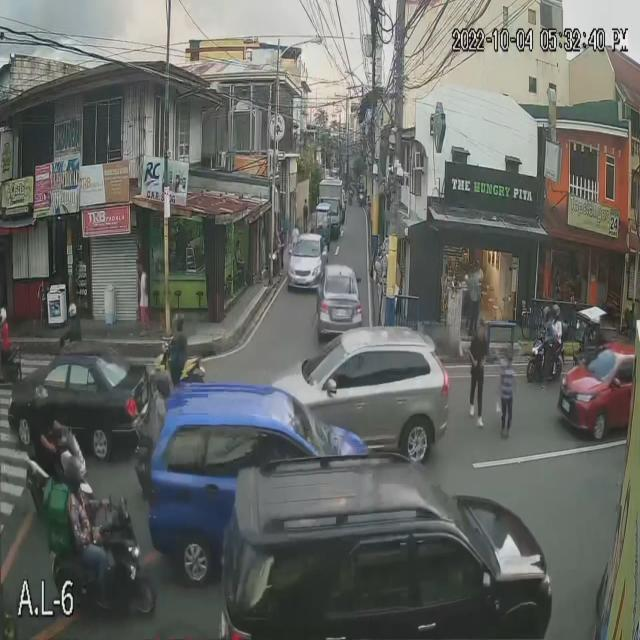Full-Faced: (28, 386, 52, 413), (170, 311, 186, 337), (539, 300, 552, 323), (548, 302, 560, 323)
Half-Faced: (64, 457, 94, 506)
